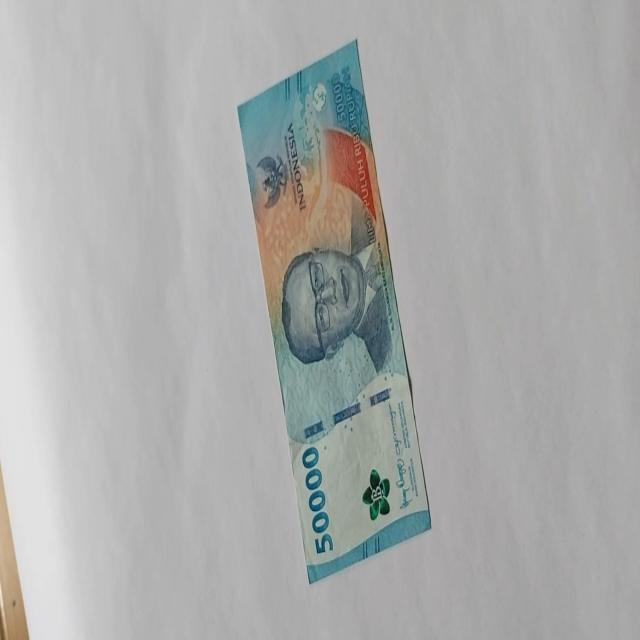lima puluh ribu rupiah: (235, 38, 432, 582)
